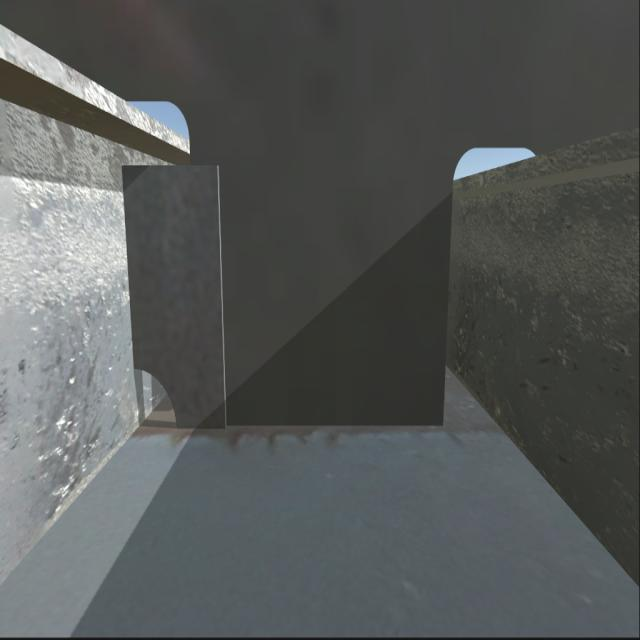fillet_hole: (135, 363, 179, 431)
fillet_yong_jeop_jang: (177, 426, 447, 432)
longi_yong_jeop_jang: (120, 163, 134, 362)
plate_CP01: (130, 168, 223, 421)
